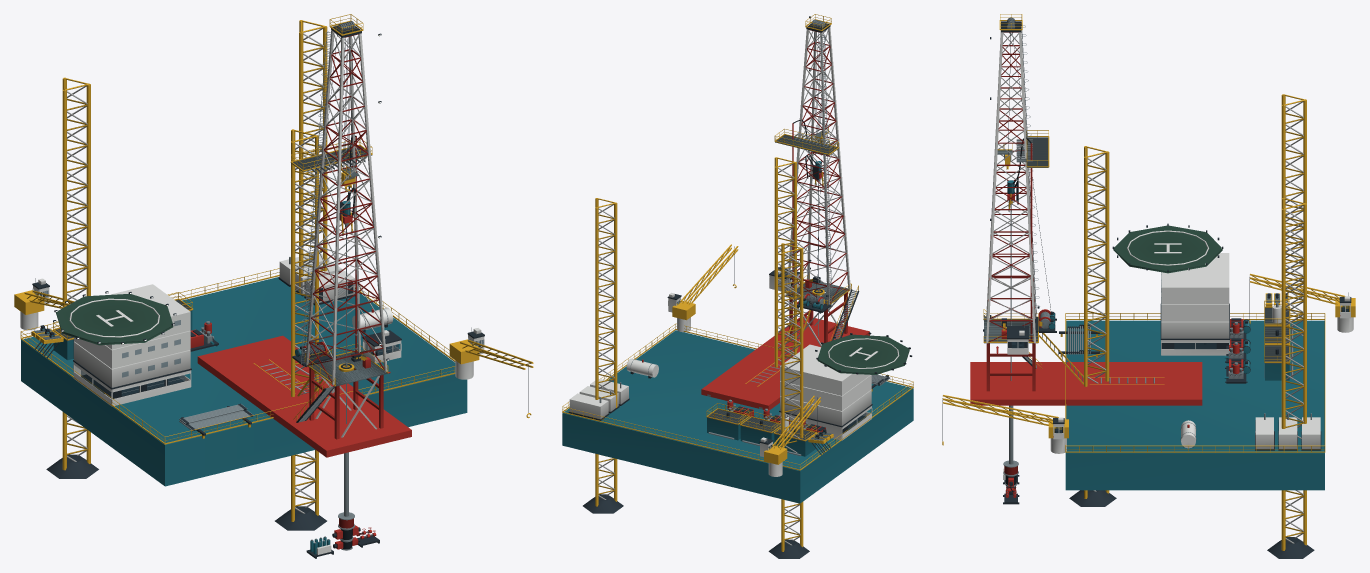
File: jackup_lodm.glb
3 views of the same model, side by side, from view 1: azimuth 30°, elevation 25°; view 2: azimuth 150°, elevation 25°; view 3: azimuth 270°, elevation 25° (orthographic). The views are drawn at different scales.
Parts seen in each view (by area): view 1: hull_surface_blue, cantilever_surface_red, derrick_surface_white, accommodation_surface_white, helideck_surface_green, derrick_surface_red, leg_-18_-41_surface_yellow, leg_0_-12_surface_yellow, leg_18_-41_surface_yellow, deck_handrails_surface_yellow, generators_surface_white, ladder_surface_steel (+13 smaller); view 2: hull_surface_blue, accommodation_surface_white, derrick_surface_white, cantilever_surface_red, leg_18_-41_surface_yellow, helideck_surface_green, leg_-18_-41_surface_yellow, derrick_surface_red, deck_handrails_surface_yellow, leg_0_-12_surface_yellow, generators_surface_white, mud_tanks_surface_blue (+14 smaller); view 3: hull_surface_blue, cantilever_surface_red, accommodation_surface_white, derrick_surface_white, helideck_surface_green, leg_18_-41_surface_yellow, leg_0_-12_surface_yellow, deck_handrails_surface_yellow, derrick_surface_red, leg_-18_-41_surface_yellow, generators_surface_white, deck_crane_1_surface_yellow (+14 smaller).
Part boxes in pixels (box(x1,y1,x2,y2)): hull_surface_blue: box(21, 276, 467, 486); cantilever_surface_red: box(197, 335, 411, 457); derrick_surface_white: box(305, 30, 387, 385); accommodation_surface_white: box(73, 284, 191, 406); helideck_surface_green: box(56, 294, 173, 345); derrick_surface_red: box(308, 34, 384, 382); leg_-18_-41_surface_yellow: box(62, 77, 90, 470); leg_0_-12_surface_yellow: box(291, 129, 318, 521); leg_18_-41_surface_yellow: box(299, 20, 327, 292); deck_handrails_surface_yellow: box(20, 268, 455, 444); generators_surface_white: box(279, 253, 354, 302); ladder_surface_steel: box(300, 31, 331, 365); hull_surface_blue: box(562, 330, 913, 503); accommodation_surface_white: box(779, 344, 872, 440); derrick_surface_white: box(786, 27, 850, 304); cantilever_surface_red: box(701, 316, 869, 410); leg_18_-41_surface_yellow: box(595, 198, 617, 506); helideck_surface_green: box(817, 334, 909, 374); leg_-18_-41_surface_yellow: box(781, 243, 803, 551); derrick_surface_red: box(788, 30, 848, 303); deck_handrails_surface_yellow: box(562, 323, 913, 470); leg_0_-12_surface_yellow: box(774, 157, 796, 367); generators_surface_white: box(569, 379, 628, 419); mud_tanks_surface_blue: box(707, 418, 815, 456); hull_surface_blue: box(1065, 320, 1324, 490); cantilever_surface_red: box(970, 362, 1202, 405); accommodation_surface_white: box(1161, 253, 1229, 355); derrick_surface_white: box(986, 31, 1035, 343); helideck_surface_green: box(1113, 225, 1222, 273); leg_18_-41_surface_yellow: box(1281, 198, 1306, 550); leg_0_-12_surface_yellow: box(1084, 146, 1109, 498); deck_handrails_surface_yellow: box(1065, 313, 1325, 452); derrick_surface_red: box(988, 32, 1034, 341); leg_-18_-41_surface_yellow: box(1281, 94, 1306, 322); generators_surface_white: box(1255, 417, 1320, 448); deck_crane_1_surface_yellow: box(942, 395, 1068, 445).
Size of the model in its own units: 54.84 by 77.66 by 60.59.
